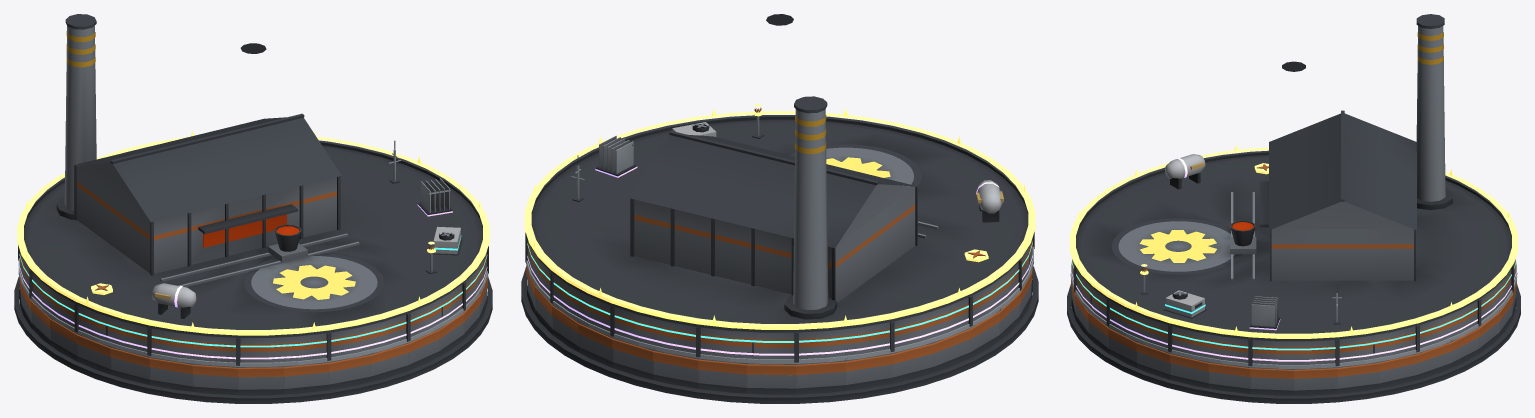
The model's file is steel_mill_l_far.glb.
The picture shows the model from 3 angles, left to right: view 1: azimuth 30°, elevation 25°; view 2: azimuth 150°, elevation 25°; view 3: azimuth 270°, elevation 25°; orthographic projection. The views are drawn at different scales.
Parts seen in each view (by area): view 1: Roof, Base, L5, L4, L2, L3; view 2: Roof, Base, L5, L4, L2, L3; view 3: Roof, Base, L5, L4, L2, L3.
Boxes of the visible parts, box(x1,y1,x2,y2) form: Roof: box(18, 14, 488, 365); Base: box(14, 275, 492, 403); L5: box(17, 130, 489, 335); L4: box(19, 178, 487, 359); L2: box(18, 140, 488, 366); L3: box(19, 226, 487, 347); Roof: box(525, 14, 1034, 362); Base: box(521, 265, 1038, 403); L5: box(524, 104, 1035, 329); L4: box(527, 135, 1032, 355); L2: box(526, 155, 1033, 363); L3: box(527, 122, 1032, 342); Roof: box(1072, 14, 1515, 366); Base: box(1067, 273, 1520, 403); L5: box(1070, 144, 1517, 338); L4: box(1071, 154, 1516, 361); L2: box(1071, 263, 1516, 368); L3: box(1071, 261, 1516, 350).
Size of the model in its own units: 18.96 by 11.12 by 18.96.
